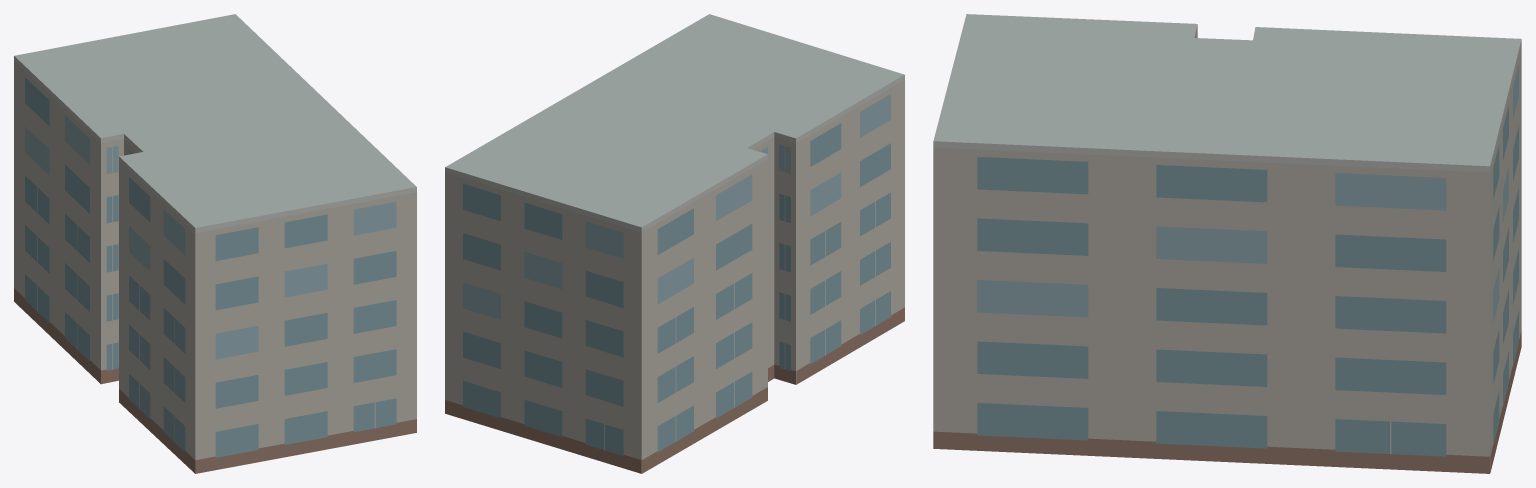
The model's file is survey-upis-32679568.glb.
The picture shows the model from 3 angles, left to right: view 1: azimuth 30°, elevation 25°; view 2: azimuth 150°, elevation 25°; view 3: azimuth 270°, elevation 25°; orthographic projection. The views are drawn at different scales.
Visible parts, largest first — view 1: survey-upis-32679568.tmp; view 2: survey-upis-32679568.tmp; view 3: survey-upis-32679568.tmp.
Boxes of the visible parts, x1,y1,x2,y2 form: survey-upis-32679568.tmp: [14, 14, 416, 473]; survey-upis-32679568.tmp: [445, 14, 904, 473]; survey-upis-32679568.tmp: [933, 14, 1521, 473].
Size of the model in its own units: 12.75 by 12 by 20.81.
